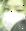with_mask: (1, 1, 26, 31)
